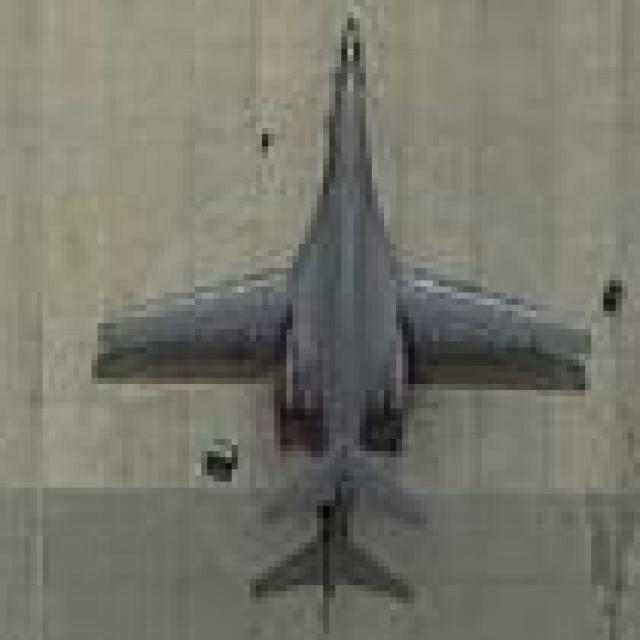B-1_TopDown: (86, 6, 592, 610)
